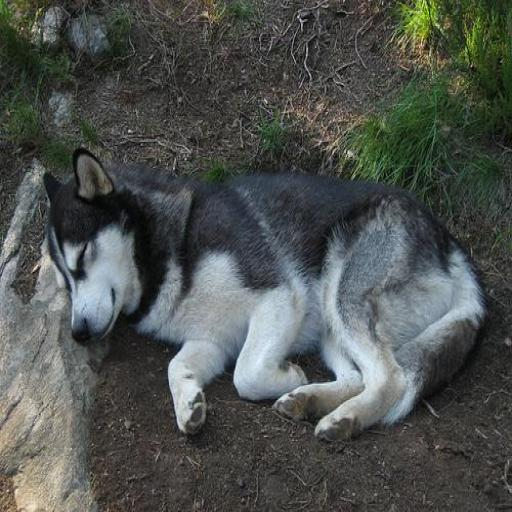dog_face: (42, 155, 140, 346)
